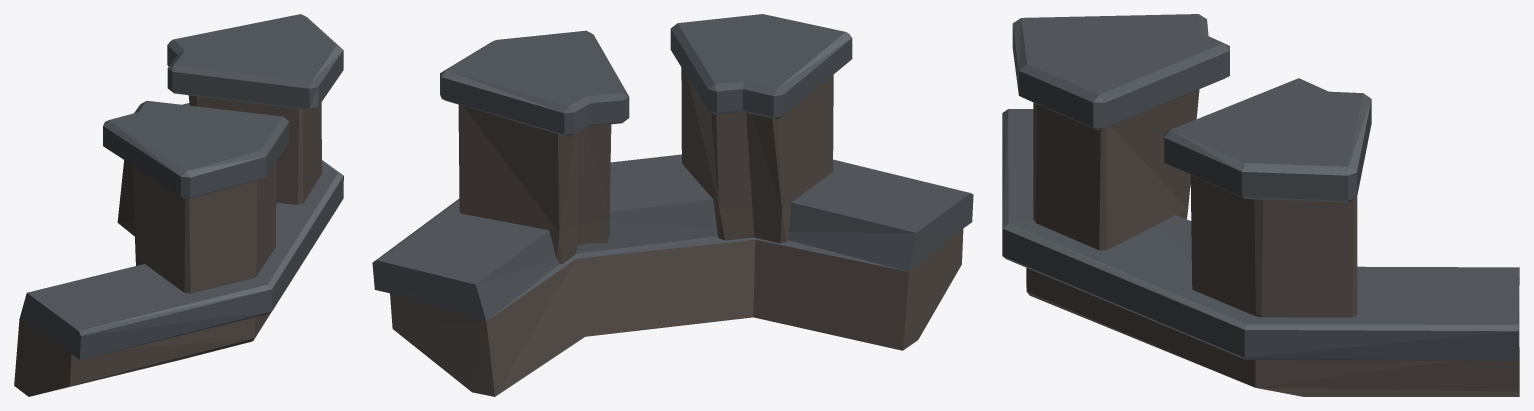
The model's file is MCastle_LargeTurrets_06.FBX.
The picture shows the model from 3 angles, left to right: view 1: azimuth 30°, elevation 25°; view 2: azimuth 150°, elevation 25°; view 3: azimuth 270°, elevation 25°; orthographic projection. The views are drawn at different scales.
Visible parts, largest first — view 1: MCastle_LargeTurrets_06_Walls_LOD0; view 2: MCastle_LargeTurrets_06_Walls_LOD0; view 3: MCastle_LargeTurrets_06_Walls_LOD0.
Boxes of the visible parts, left/top/right/bottom form: MCastle_LargeTurrets_06_Walls_LOD0: left=14, top=14, right=343, bottom=396; MCastle_LargeTurrets_06_Walls_LOD0: left=372, top=14, right=973, bottom=396; MCastle_LargeTurrets_06_Walls_LOD0: left=1002, top=14, right=1519, bottom=396.
Size of what is drawn, in the model's own units: 5.49 by 3.32 by 5.43.
